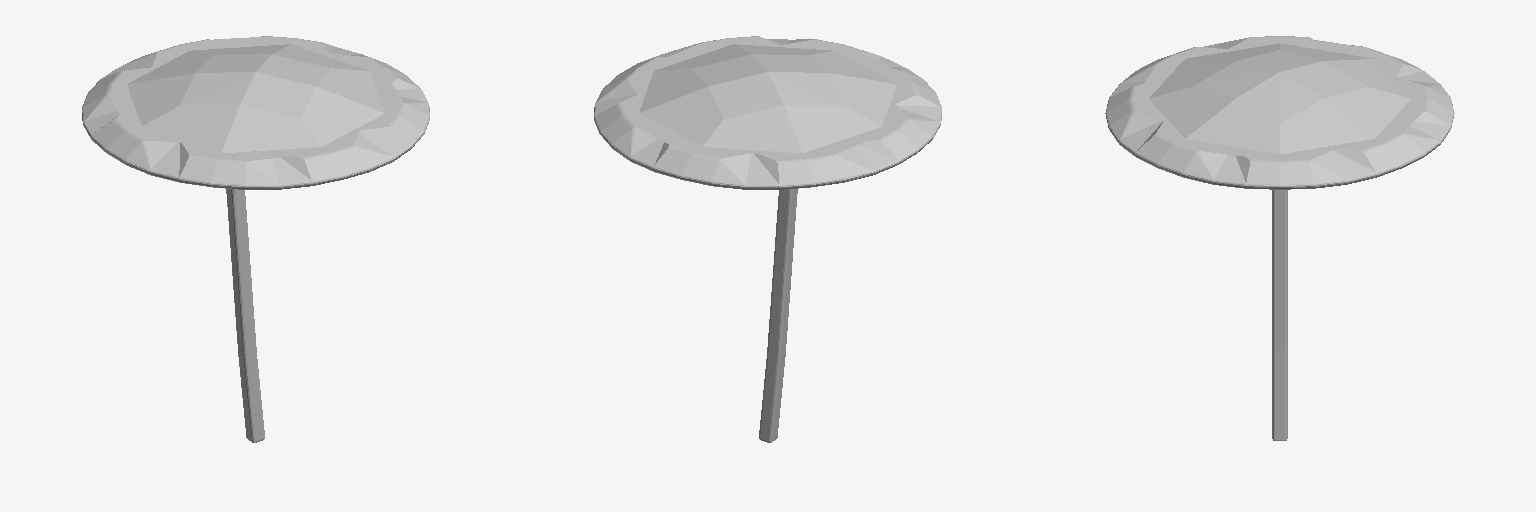
Rendered from BlueShroom.obj.
The picture shows the model from 3 angles: view 1: azimuth 30°, elevation 25°; view 2: azimuth 150°, elevation 25°; view 3: azimuth 270°, elevation 25°; orthographic projection.
Parts seen in each view (by area): view 1: Cylinder.001; view 2: Cylinder.001; view 3: Cylinder.001.
Part boxes in pixels (bbox=[...]): Cylinder.001: bbox=[82, 36, 429, 442]; Cylinder.001: bbox=[594, 36, 941, 442]; Cylinder.001: bbox=[1105, 36, 1454, 440].
Size of the model in its own units: 7.2 by 8.38 by 7.2.